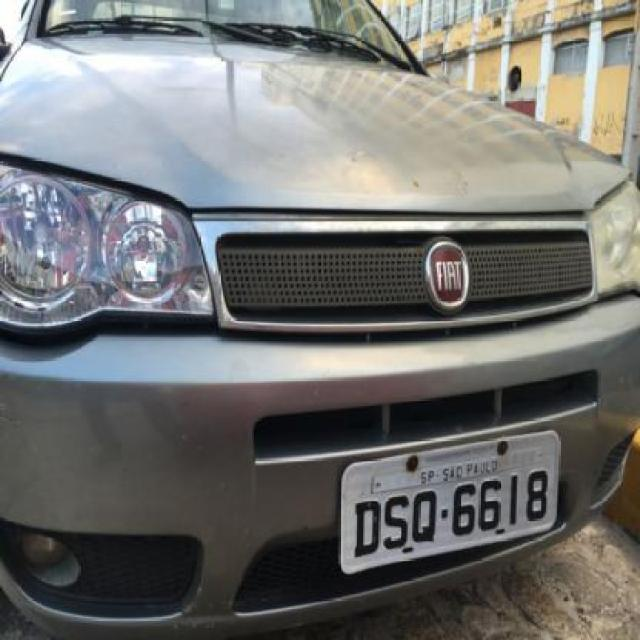old_plate: (332, 422, 566, 580)
